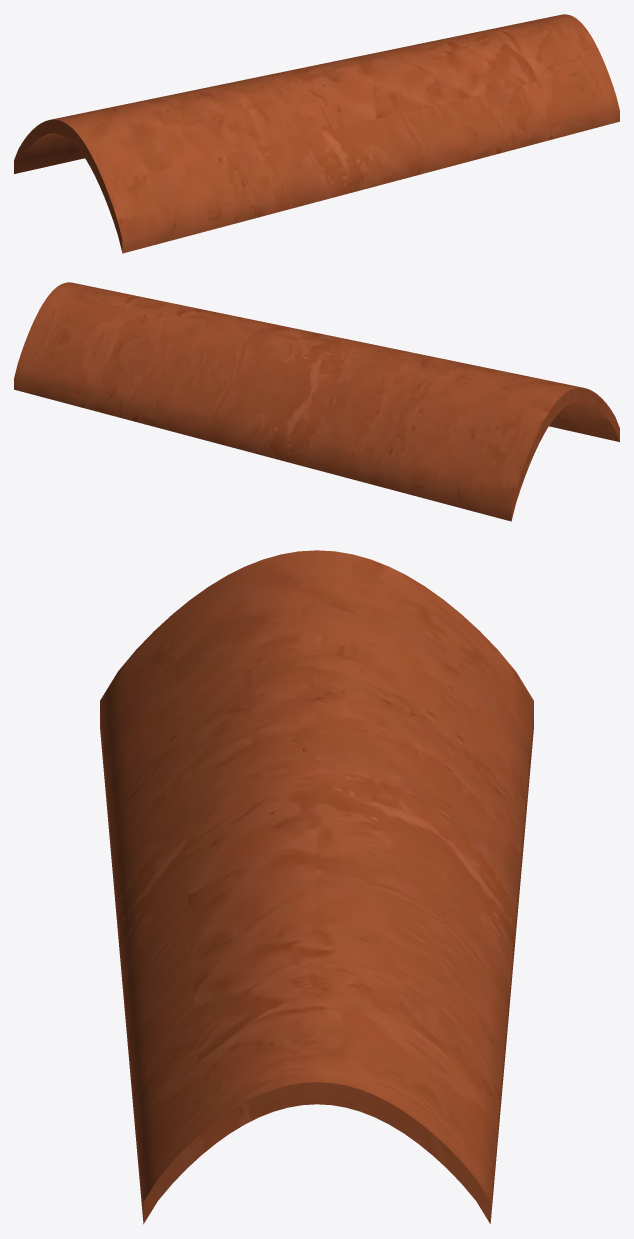
File: COB-CER-001.glb
The picture shows the model from 3 angles, top to bottom: view 1: azimuth 30°, elevation 25°; view 2: azimuth 150°, elevation 25°; view 3: azimuth 270°, elevation 25°; orthographic projection. The views are drawn at different scales.
Visible parts, largest first — view 1: COB-CER-001_telha; view 2: COB-CER-001_telha; view 3: COB-CER-001_telha.
Part boxes in pixels (x1=…): COB-CER-001_telha: x1=14, y1=14, x2=619, y2=253; COB-CER-001_telha: x1=14, y1=282, x2=619, y2=521; COB-CER-001_telha: x1=100, y1=550, x2=533, y2=1224.
Size of the model in its own units: 0.46 by 0.077 by 0.17.
1 material, 1 textured.
